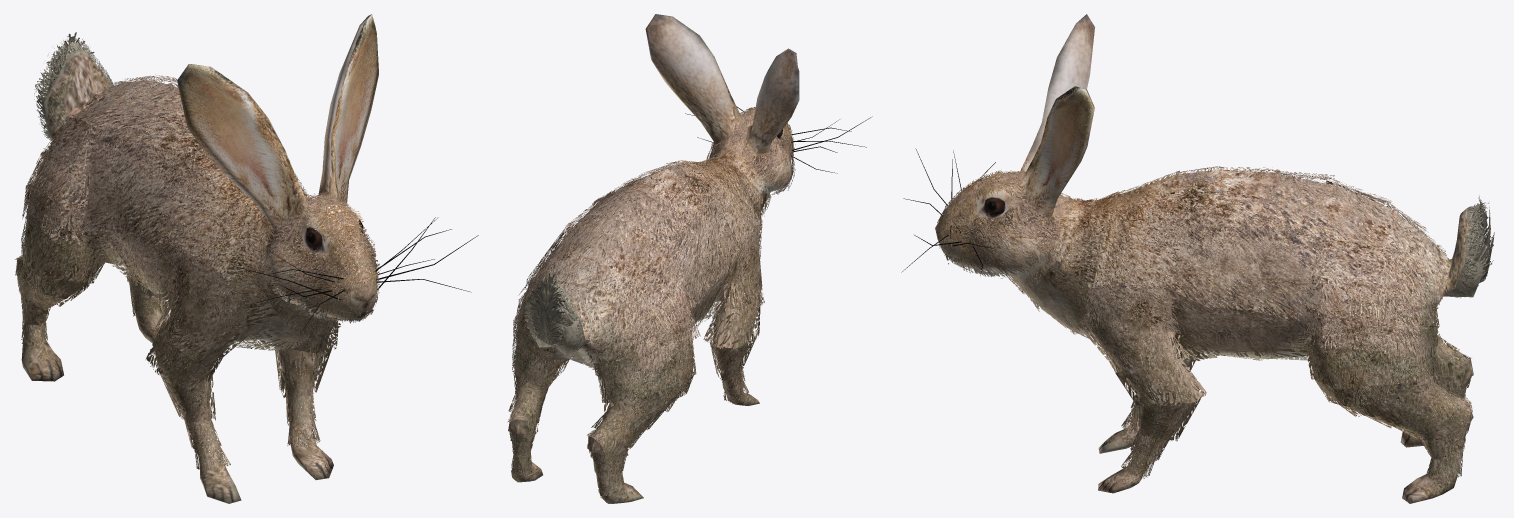
Rendered from rabbit20003.obj.
The picture shows the model from 3 angles, left to right: view 1: azimuth 30°, elevation 25°; view 2: azimuth 150°, elevation 25°; view 3: azimuth 270°, elevation 25°; orthographic projection. The views are drawn at different scales.
Visible parts, largest first — view 1: Rabbit, Fur; view 2: Rabbit, Fur; view 3: Fur, Rabbit.
Boxes of the visible parts, x1,y1,x2,y2 form: Rabbit: (17, 14, 478, 503); Fur: (15, 32, 380, 471); Rabbit: (510, 14, 872, 503); Fur: (507, 107, 795, 497); Fur: (937, 166, 1494, 479); Rabbit: (901, 14, 1485, 503).
Bounding box in the file's own units: 7.47 × 15.19 × 19.69.
